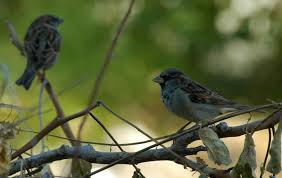hsparrow: (152, 65, 264, 133), (16, 13, 70, 94)
